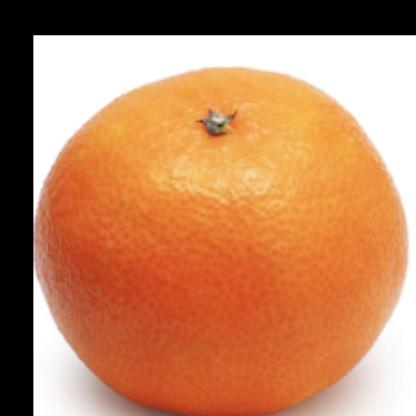fresh: (33, 69, 411, 416)
